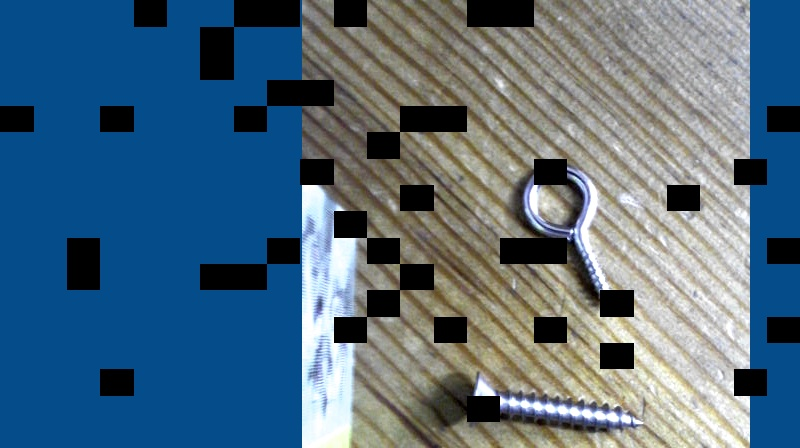O001: (514, 159, 616, 317)
S001: (456, 369, 644, 443)
